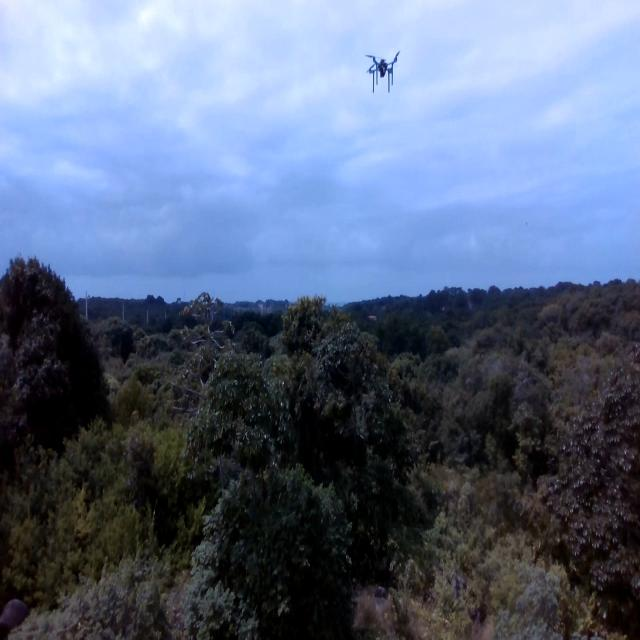-uav-: (358, 44, 406, 99)
